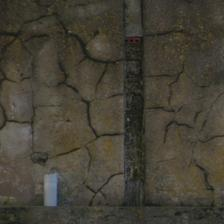Crack: (46, 70, 149, 142), (0, 0, 73, 75), (10, 0, 58, 65), (32, 27, 70, 107), (8, 43, 72, 89), (18, 0, 47, 73), (32, 51, 93, 74), (95, 50, 116, 102), (39, 29, 64, 63), (41, 28, 58, 68)
